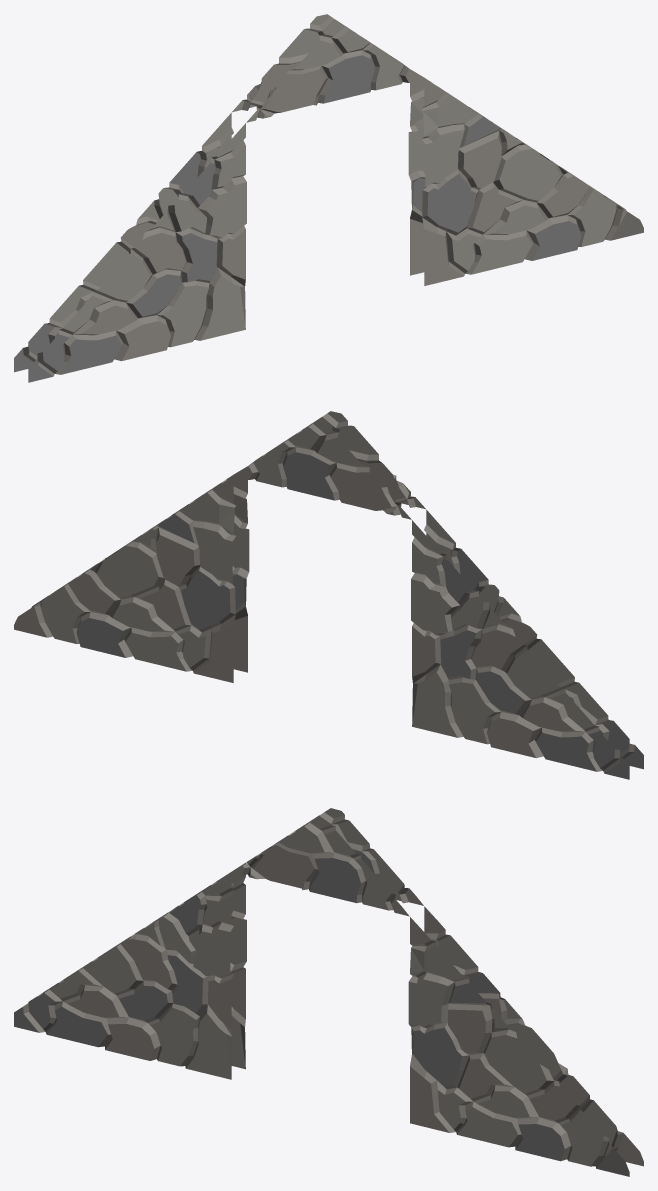
File: rpgpp_ag_roof_end_01_9x4_wall_door_03d.fbx
The picture shows the model from 3 angles, top to bottom: view 1: azimuth 30°, elevation 25°; view 2: azimuth 150°, elevation 25°; view 3: azimuth 330°, elevation 25°; orthographic projection.
Visible parts, largest first — view 1: rpgpp_ag_roof_end_01_9x4_wall_door_03d; view 2: rpgpp_ag_roof_end_01_9x4_wall_door_03d; view 3: rpgpp_ag_roof_end_01_9x4_wall_door_03d.
Part boxes in pixels (<box>): rpgpp_ag_roof_end_01_9x4_wall_door_03d: <box>14,14,643,382</box>; rpgpp_ag_roof_end_01_9x4_wall_door_03d: <box>14,411,643,779</box>; rpgpp_ag_roof_end_01_9x4_wall_door_03d: <box>14,808,643,1176</box>.
Size of the model in its own units: 9 by 3.94 by 0.4229.
